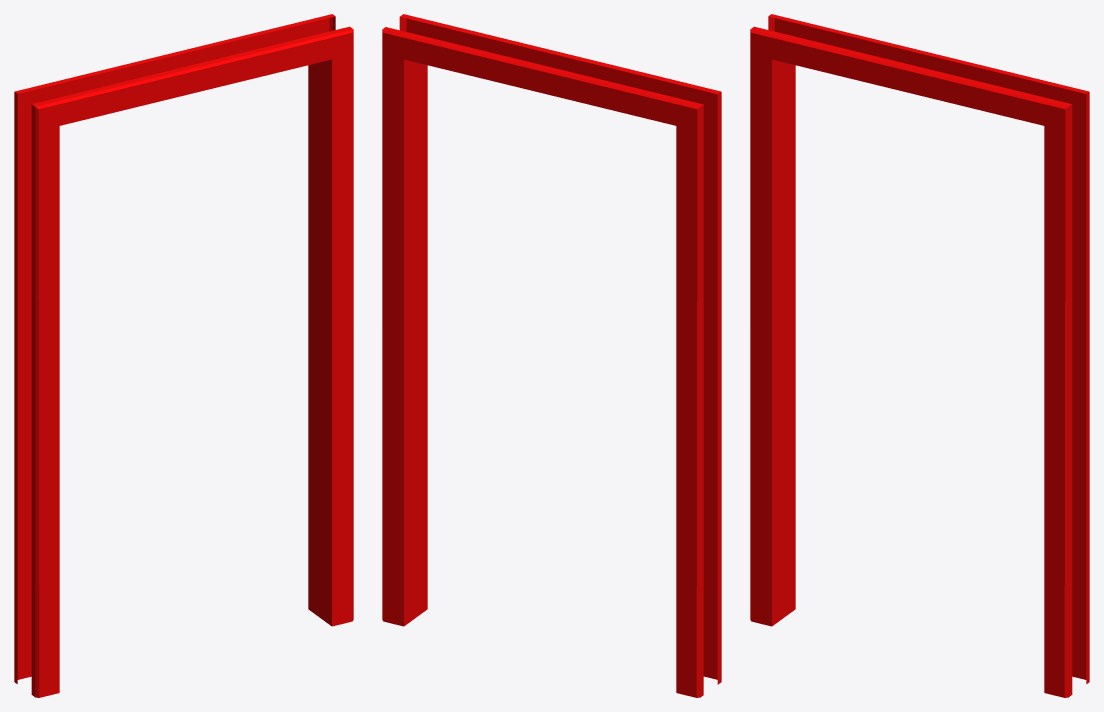
Rendered from DoorFrame.fbx.
The picture shows the model from 3 angles, left to right: view 1: azimuth 30°, elevation 25°; view 2: azimuth 150°, elevation 25°; view 3: azimuth 330°, elevation 25°; orthographic projection.
Visible parts, largest first — view 1: DoorFrame; view 2: DoorFrame; view 3: DoorFrame.
Part boxes in pixels (<box>): DoorFrame: <box>14,14,353,697</box>; DoorFrame: <box>382,14,721,697</box>; DoorFrame: <box>750,14,1089,697</box>.
Size of the model in its own units: 131 by 233 by 17.03.
